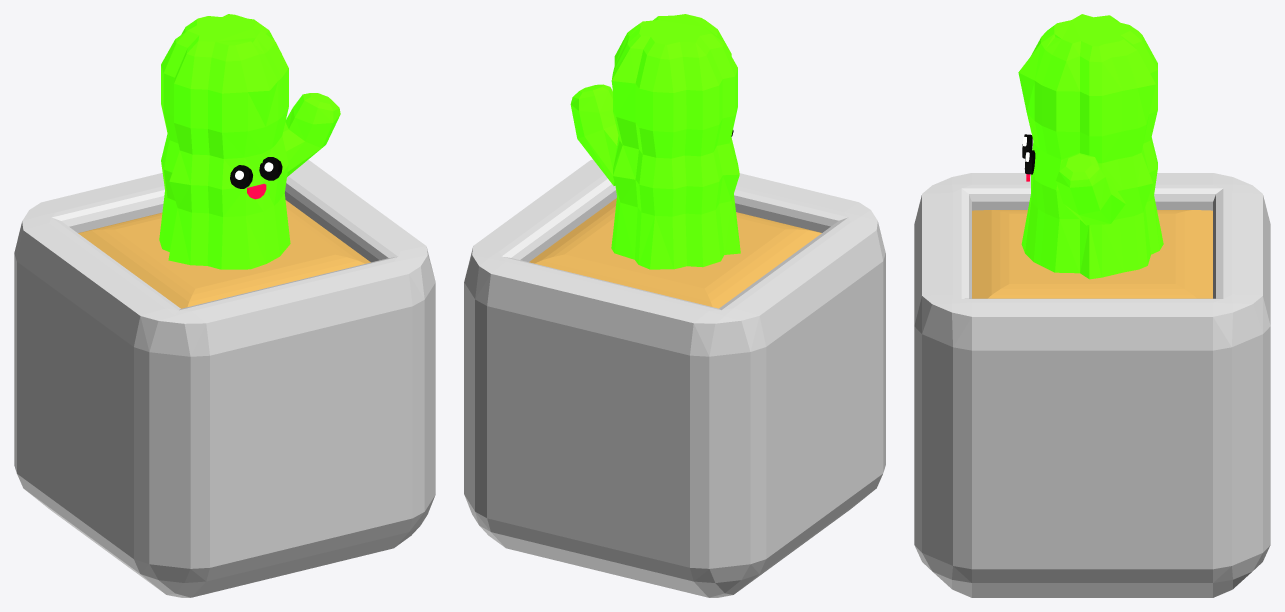
Rendered from STR_3D_cactus_2.dae.
3 renders of one model, left to right at view 1: azimuth 30°, elevation 25°; view 2: azimuth 150°, elevation 25°; view 3: azimuth 270°, elevation 25°, orthographic. The views are drawn at different scales.
Visible parts, largest first — view 1: pot.002, Cylinder, soil.002, Cylinder.001, Cylinder.004; view 2: pot.002, Cylinder, soil.002, Cylinder.001; view 3: pot.002, Cylinder, soil.002, Cylinder.001.
Part boxes in pixels (x1,y1,x2,y2): pot.002: (14, 160, 435, 597); Cylinder: (159, 14, 290, 269); soil.002: (78, 200, 370, 308); Cylinder.001: (282, 93, 340, 176); Cylinder.004: (230, 157, 282, 199); pot.002: (464, 159, 885, 597); Cylinder: (611, 14, 740, 269); soil.002: (529, 198, 821, 308); Cylinder.001: (570, 84, 618, 185); pot.002: (914, 173, 1270, 597); Cylinder: (1018, 14, 1163, 279); soil.002: (972, 210, 1212, 298); Cylinder.001: (1056, 153, 1125, 225).
Bounding box in the file's own units: 2 × 2 × 3.2.
